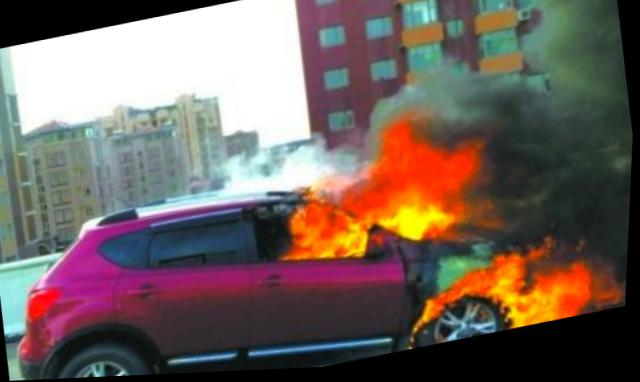fire: (254, 94, 636, 372)
